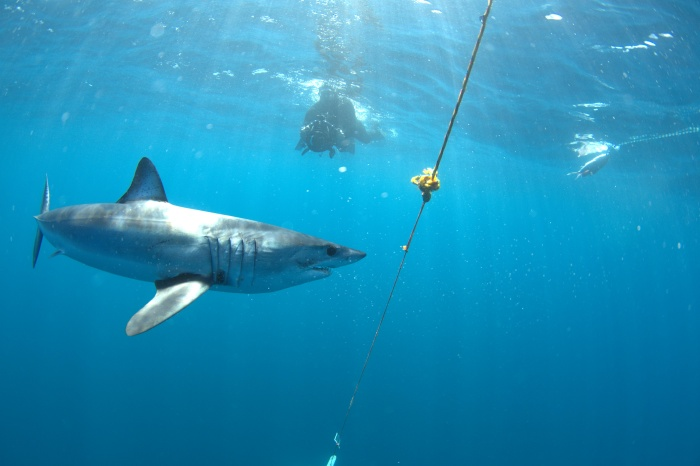Mako: (13, 150, 378, 342)
